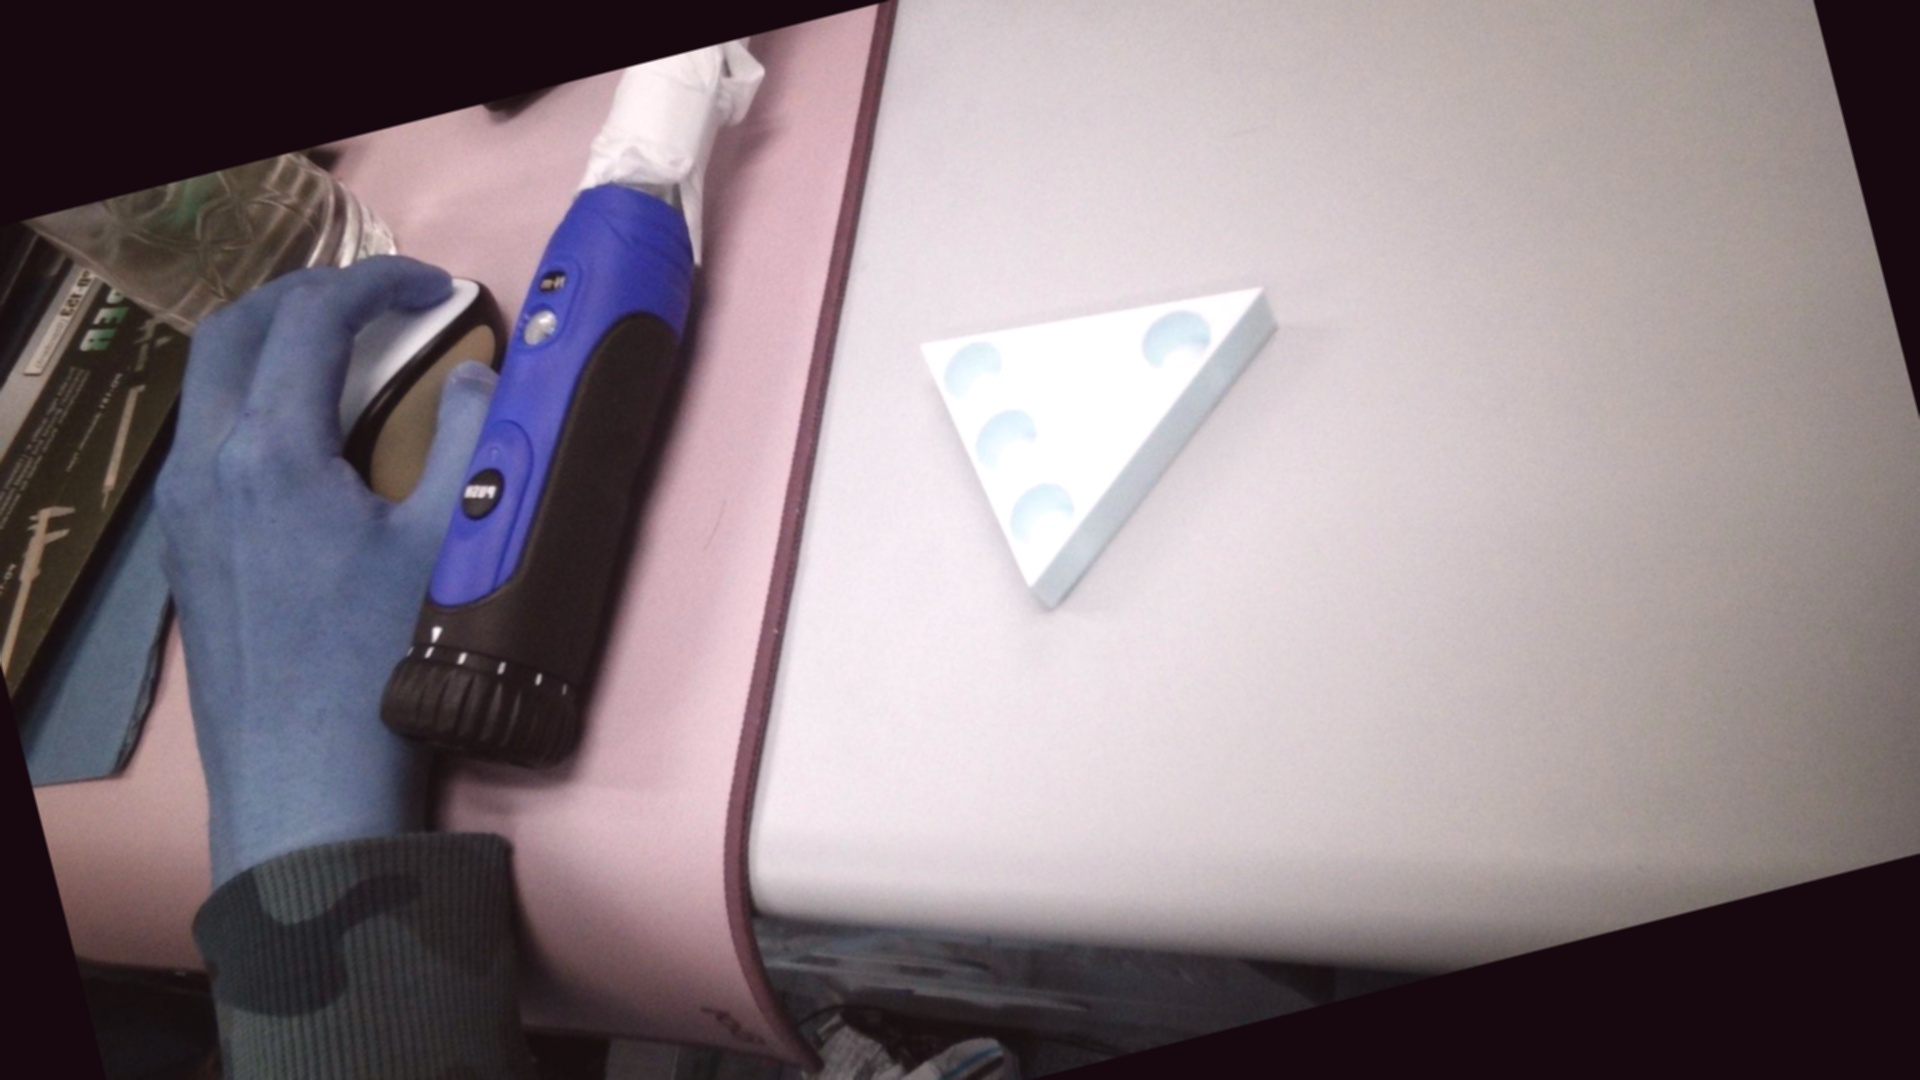hole: (997, 472, 1088, 560), (965, 398, 1047, 483), (1135, 302, 1218, 378), (938, 338, 1006, 404)
obj: (913, 239, 1346, 637)
